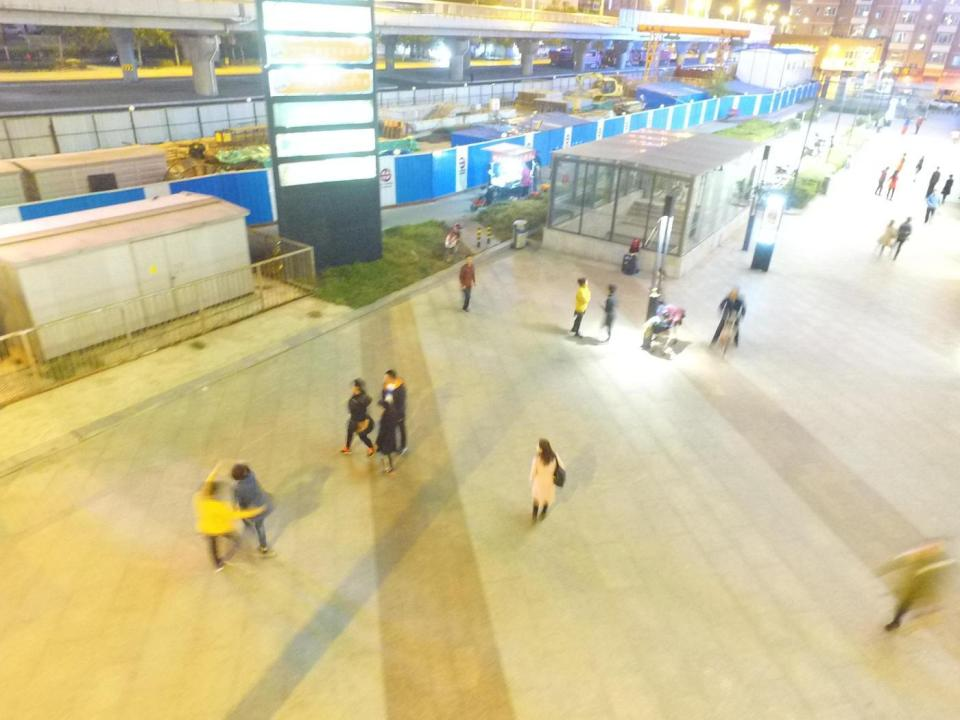car: (928, 98, 958, 111)
truck: (620, 48, 671, 67), (574, 50, 602, 68), (548, 50, 578, 66)
